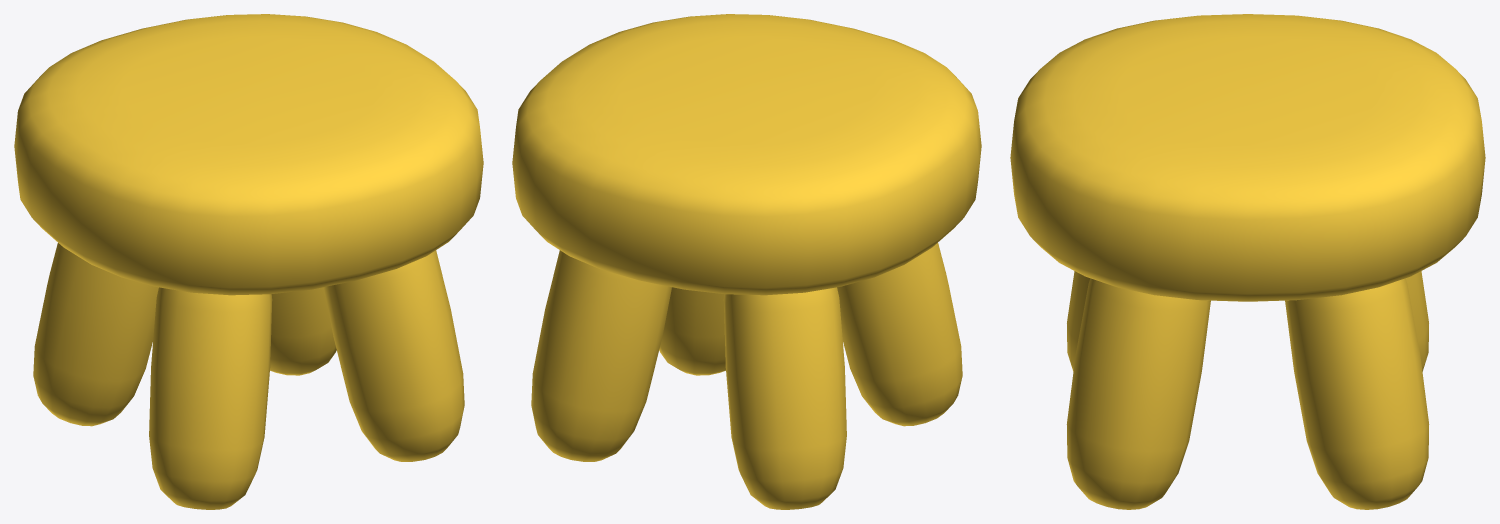
File: banquinho_cogumelo_amarelo.glb
The picture shows the model from 3 angles, left to right: view 1: azimuth 30°, elevation 25°; view 2: azimuth 150°, elevation 25°; view 3: azimuth 270°, elevation 25°; orthographic projection. The views are drawn at different scales.
Parts seen in each view (by area): view 1: banquinho_cogumelo_amarelo; view 2: banquinho_cogumelo_amarelo; view 3: banquinho_cogumelo_amarelo.
Part boxes in pixels (box(x1,y1,x2,y2)): banquinho_cogumelo_amarelo: box(14, 14, 483, 509); banquinho_cogumelo_amarelo: box(512, 14, 981, 509); banquinho_cogumelo_amarelo: box(1010, 14, 1485, 509).
Size of the model in its own units: 0.27 by 0.2261 by 0.27.
Materials: 1 (1 with a texture image).
